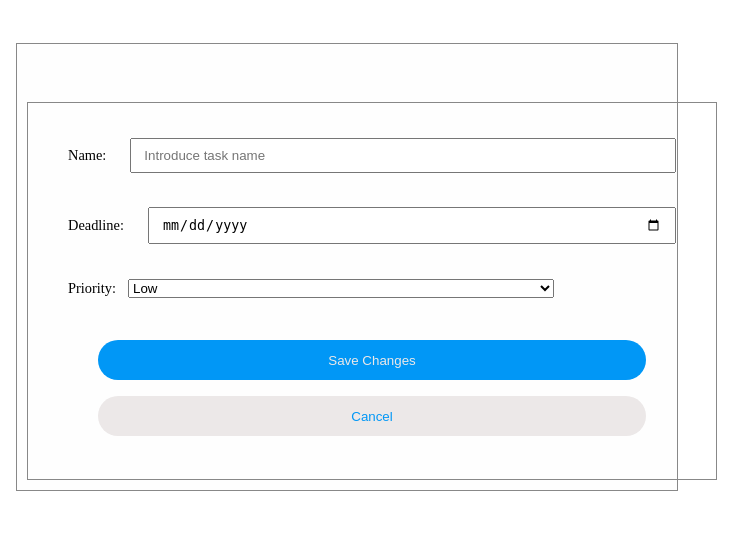
Test: AddNote › submits error, task text must have less than 120chars'
Step 1. Type "Write a brief essay discussing the impact of technology on modern education. Include examples of how digital tools have transformed learning experiences in classrooms and beyond." into the field labelled "Name:" → (403, 155), box left=130, top=138, right=676, bottom=173
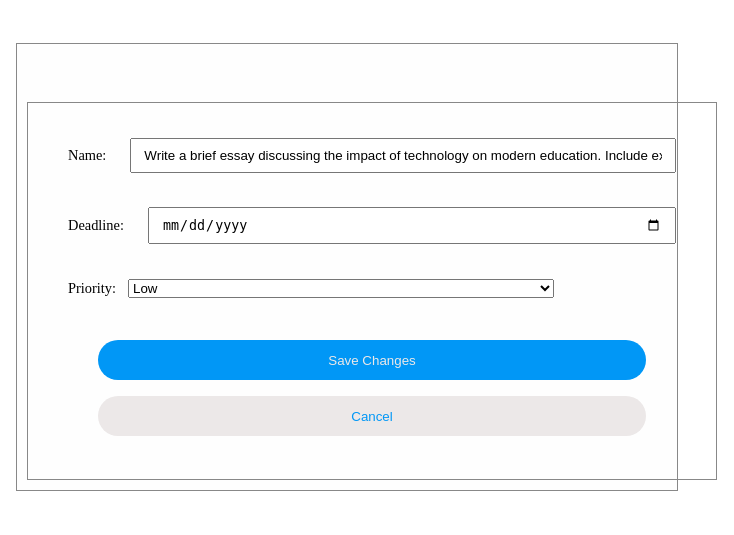
Step 2. Type "2024-09-30" into the date field labelled "Deadline:" → (412, 226), box left=148, top=207, right=676, bottom=244
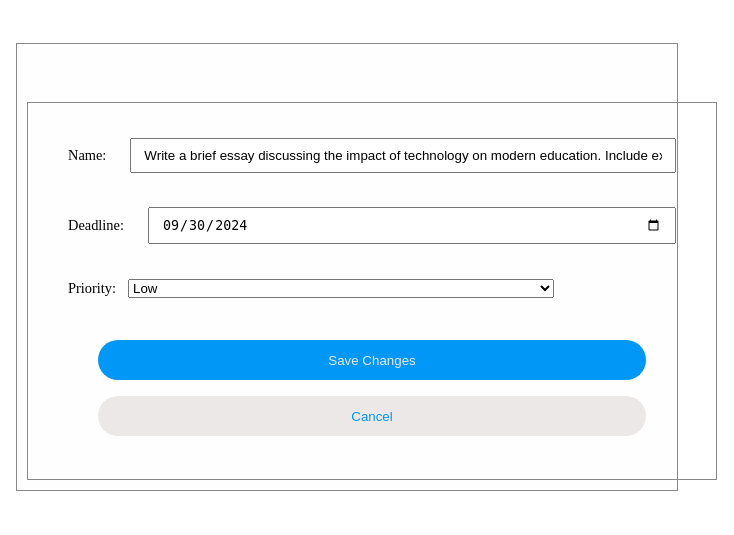
Step 3. Select "High" in the dropdown labelled "Priority:" → (341, 288), box left=128, top=279, right=554, bottom=298
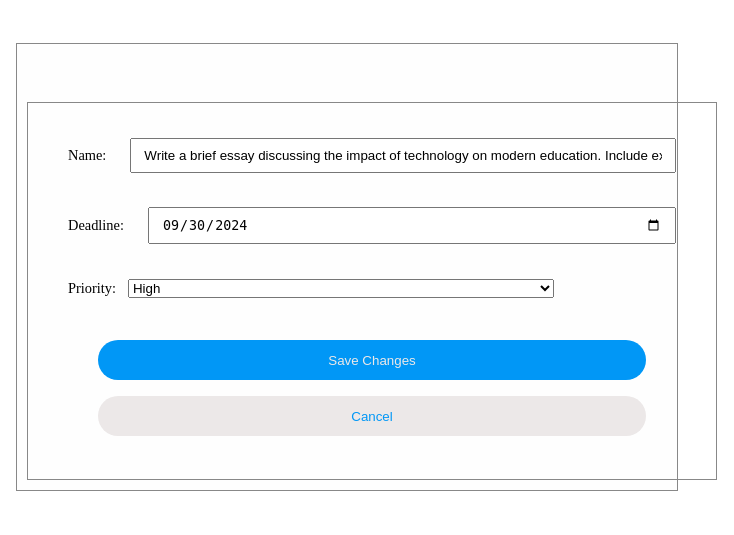
Step 4. Click the button "Save Changes" → (372, 360), box left=98, top=340, right=646, bottom=380
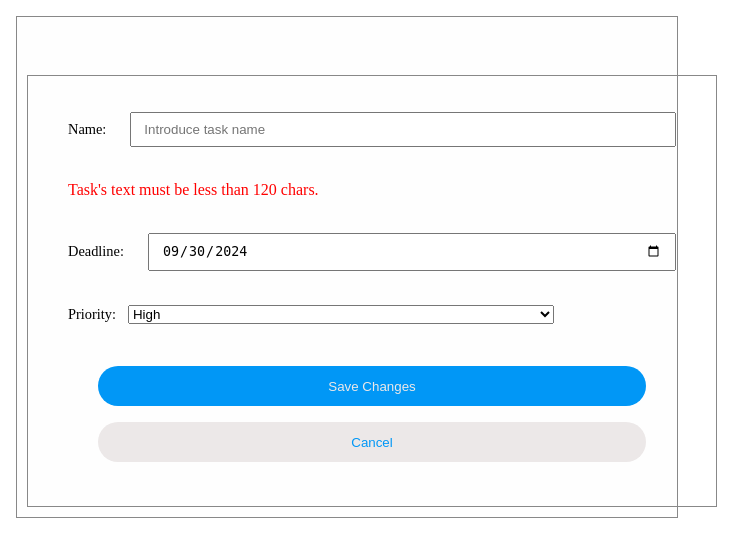
Expected: the text "Task's text must be less than 120 chars." is shown, left=68, top=181, right=319, bottom=198
